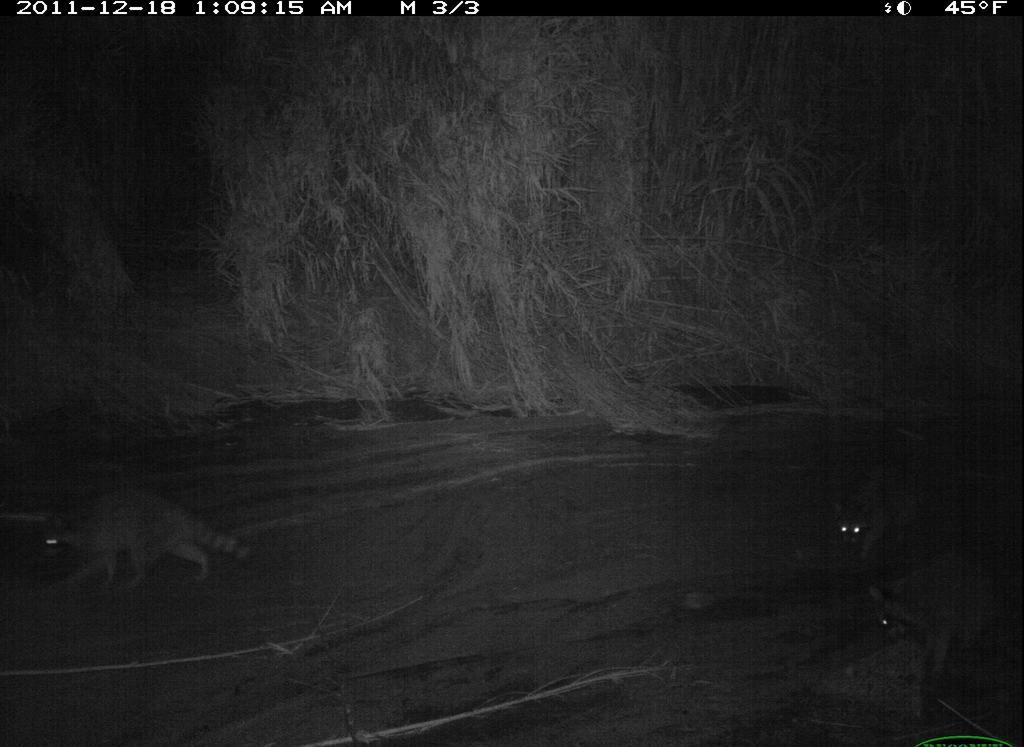raccoon: (24, 479, 276, 606), (859, 577, 1009, 694), (827, 464, 941, 575)
